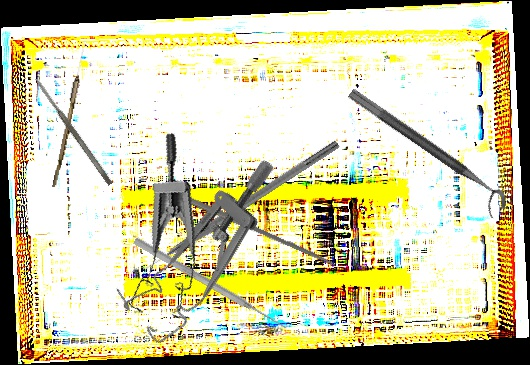Fixation Ring: (338, 87, 512, 221)
Hook Surgical: (136, 137, 341, 276)
Pusher: (132, 235, 290, 334)
Scalpel Handle: (151, 179, 337, 269)
Spatula Surgical: (33, 76, 114, 187)
Speculum: (100, 155, 319, 350), (88, 130, 225, 334)
Surgical Spoon: (52, 39, 88, 188)
